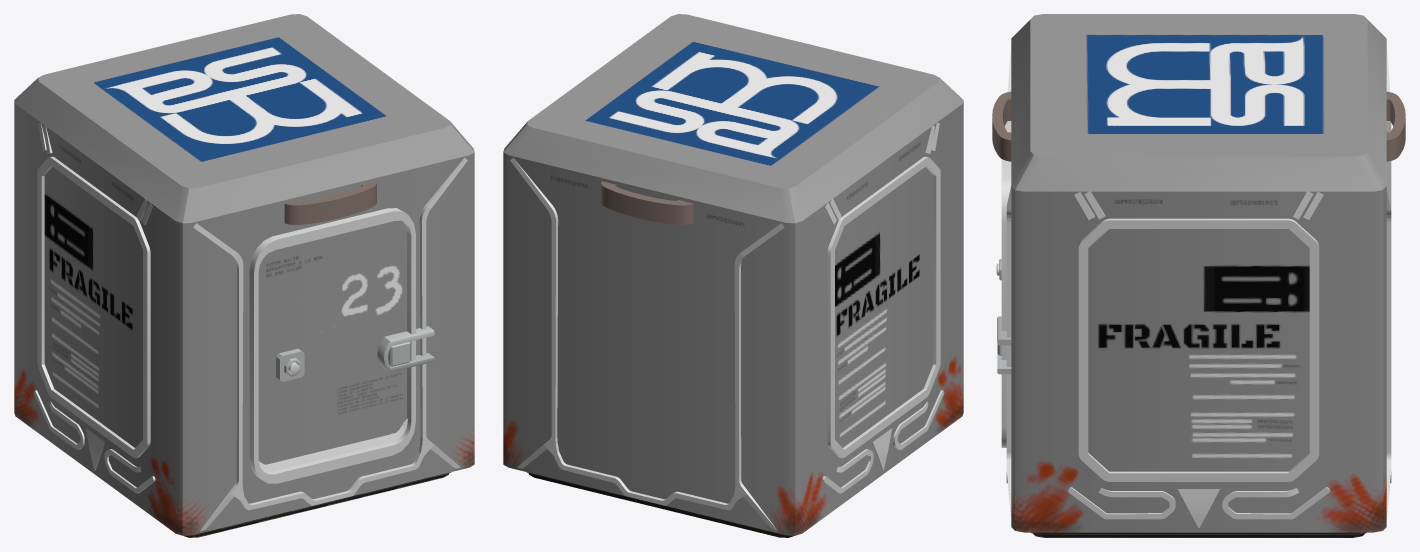
Rendered from DeliveryBoxTriangulate.fbx.
3 views of the same model, side by side, from view 1: azimuth 30°, elevation 25°; view 2: azimuth 150°, elevation 25°; view 3: azimuth 270°, elevation 25° (orthographic). The views are drawn at different scales.
Visible parts, largest first — view 1: Box, Strips.001, Strips.005, Strips, Handle, doorLock, Strips.004, doorButton; view 2: Box, Strips.005, Strips, Handle, Strips.004; view 3: Box, Strips, Strips.005, Strips.004, Handle, Strips.001, Strips.002, Strips.003, doorLock.
Boxes of the visible parts, x1=… form: Box: x1=14, y1=14, x2=474, y2=537; Strips.001: x1=249, y1=208, x2=415, y2=483; Strips.005: x1=193, y1=157, x2=467, y2=531; Strips: x1=37, y1=156, x2=150, y2=458; Handle: x1=284, y1=181, x2=376, y2=224; doorLock: x1=377, y1=326, x2=434, y2=372; Strips.004: x1=33, y1=390, x2=155, y2=493; doorButton: x1=276, y1=348, x2=304, y2=381; Box: x1=503, y1=14, x2=963, y2=537; Strips.005: x1=510, y1=157, x2=784, y2=531; Strips: x1=827, y1=156, x2=940, y2=458; Handle: x1=601, y1=181, x2=693, y2=224; Strips.004: x1=822, y1=390, x2=944, y2=493; Box: x1=1011, y1=14, x2=1386, y2=537; Strips: x1=1078, y1=218, x2=1319, y2=481; Strips.005: x1=1006, y1=44, x2=1391, y2=518; Strips.004: x1=1068, y1=487, x2=1329, y2=519; Handle: x1=992, y1=91, x2=1405, y2=161; Strips.001: x1=1001, y1=121, x2=1011, y2=447; Strips.002: x1=1074, y1=191, x2=1323, y2=219; Strips.003: x1=1178, y1=489, x2=1219, y2=527; doorLock: x1=997, y1=316, x2=1011, y2=374.
Bounding box in the file's own units: 204 × 225 × 220.
Materials: 3 (1 with a texture image).
